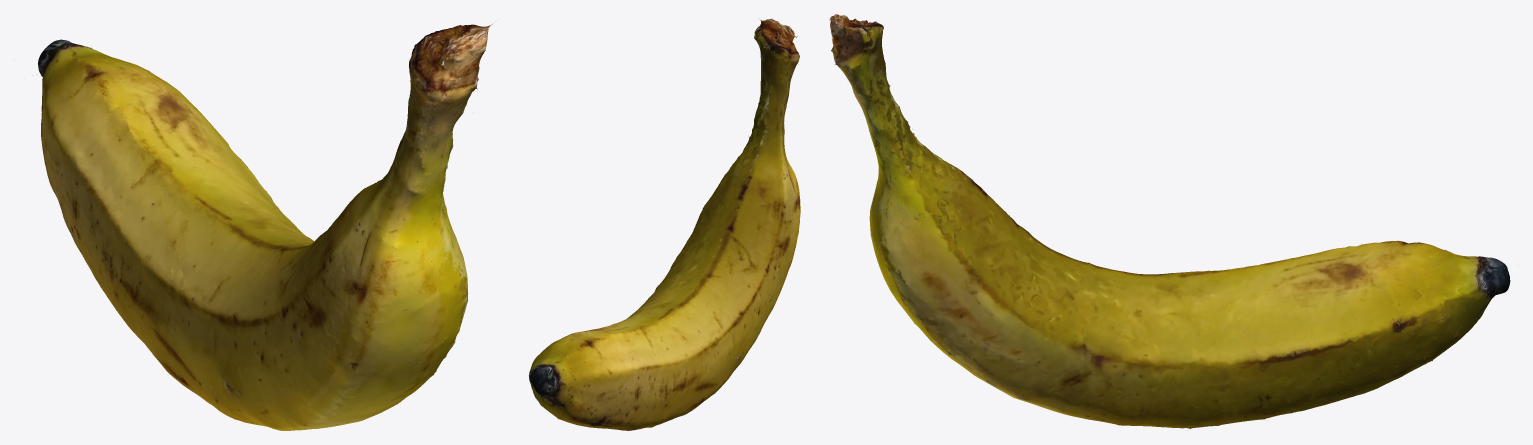
The model's file is 静物_水果_banana_opt.glb.
3 renders of one model, left to right at view 1: azimuth 30°, elevation 25°; view 2: azimuth 150°, elevation 25°; view 3: azimuth 270°, elevation 25°, orthographic. The views are drawn at different scales.
Visible parts, largest first — view 1: Object_2; view 2: Object_2; view 3: Object_2.
Part boxes in pixels (bbox=[...]): Object_2: bbox=[38, 24, 492, 430]; Object_2: bbox=[529, 18, 800, 430]; Object_2: bbox=[829, 14, 1510, 428].
Bounding box in the file's own units: 0.0364 × 0.1 × 0.1498.
1 material, 1 textured.
